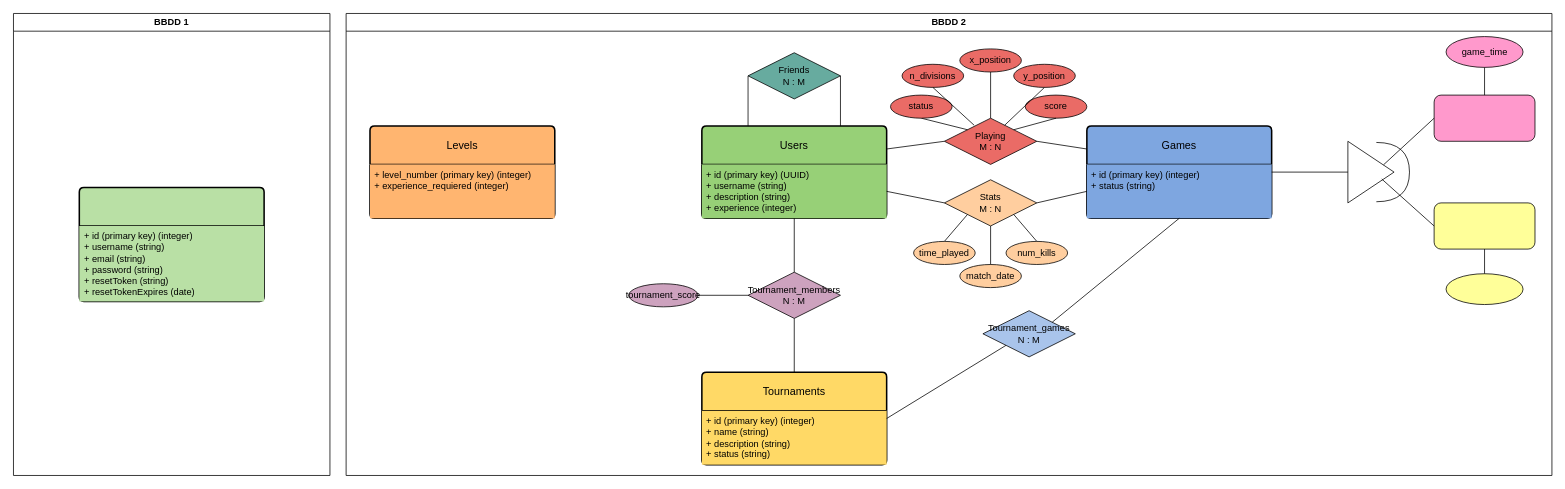
Some shapes in this 1565 by 489 pixel diagram are drawn without their labels. Each missing label, with the box of its shape:
Loggin: (78, 186, 264, 302)
password: (1445, 273, 1523, 305)
Privada: (1433, 202, 1535, 249)
Pública: (1433, 94, 1535, 141)
